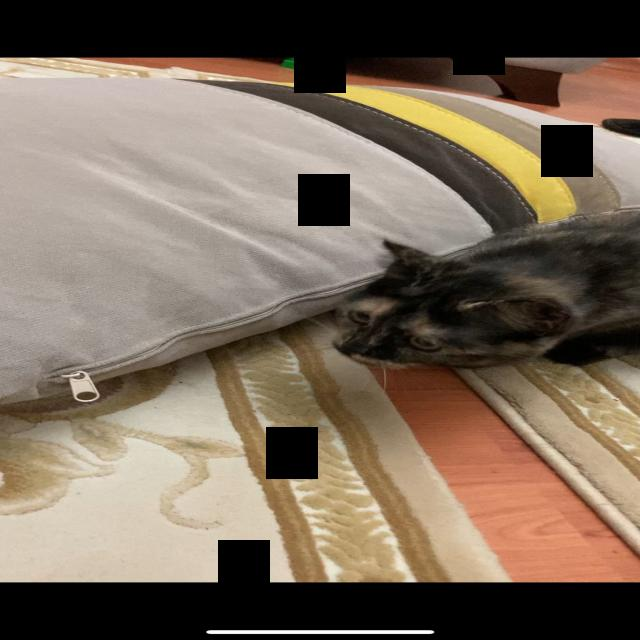authorized: (328, 213, 638, 370)
